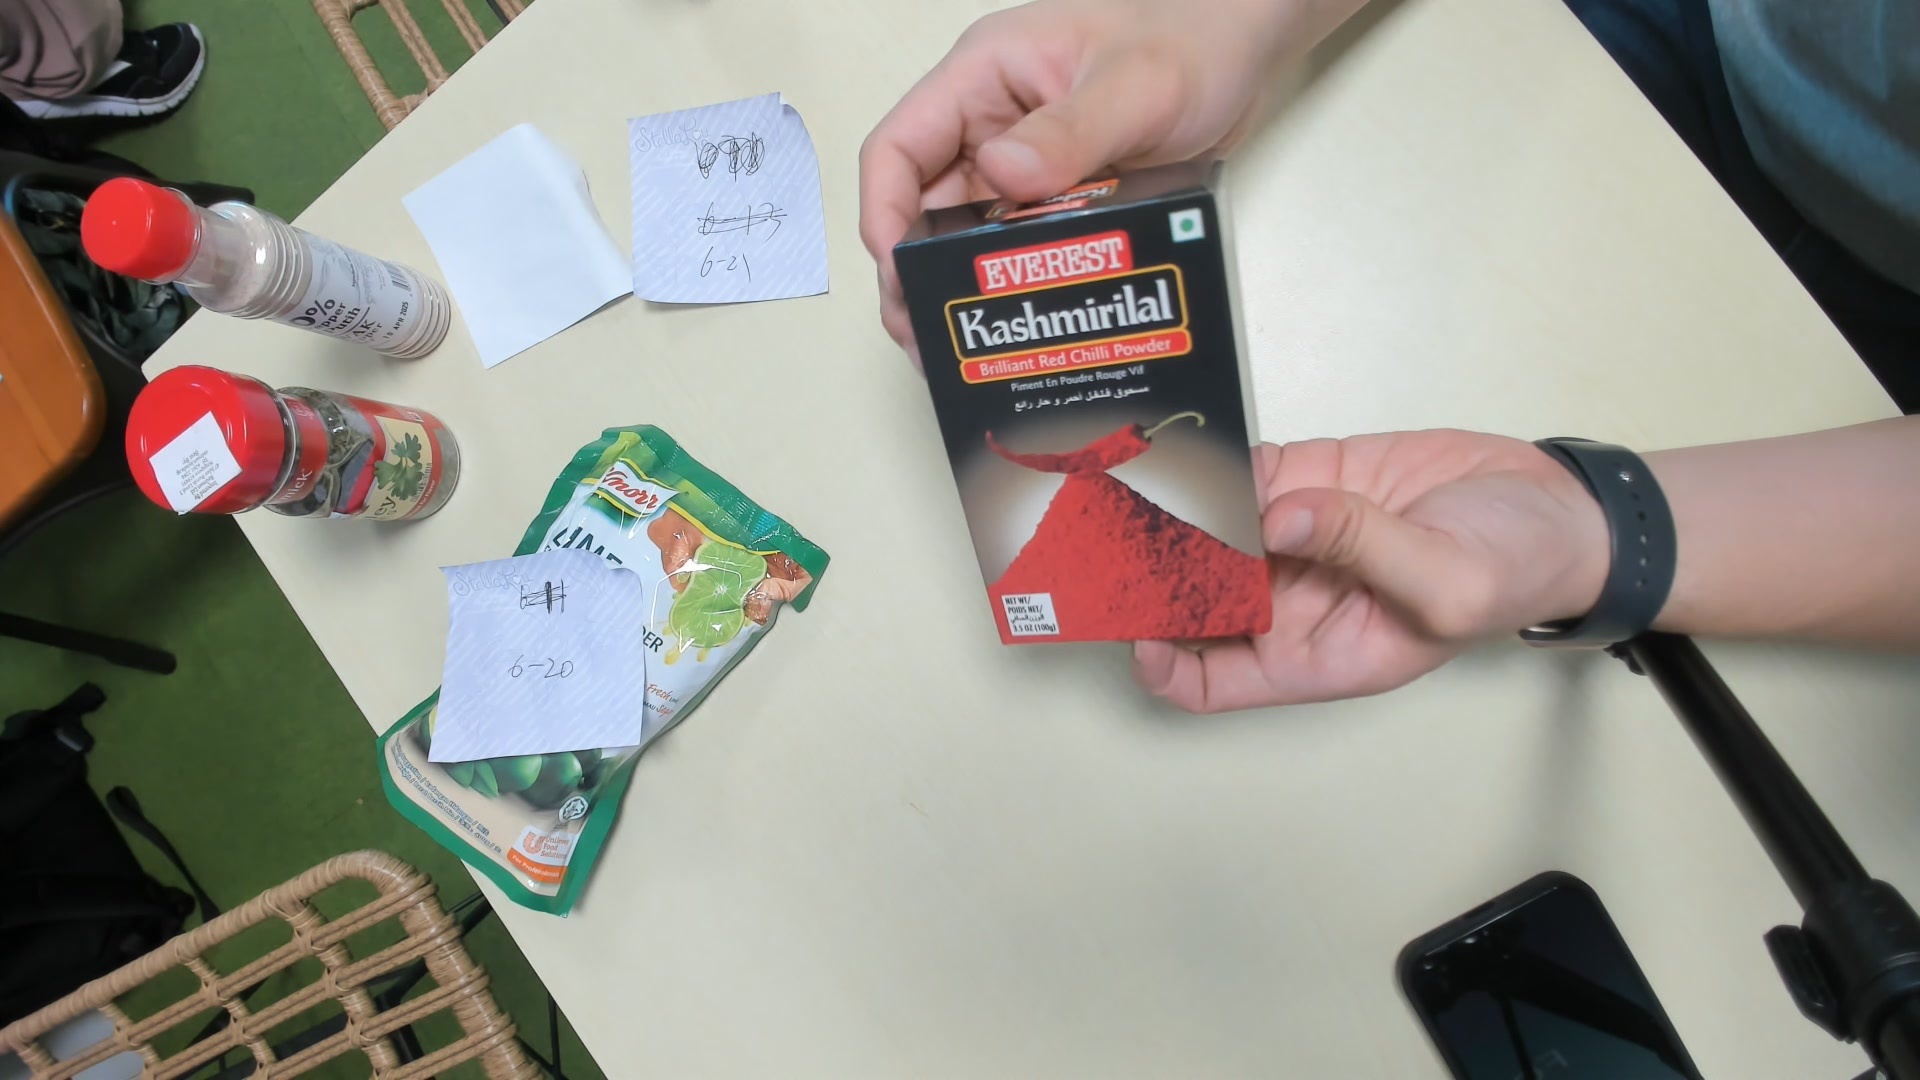HerbsSpicesPepper_100-199g_NonHalal_NonHealthy: (899, 164, 1275, 647)
